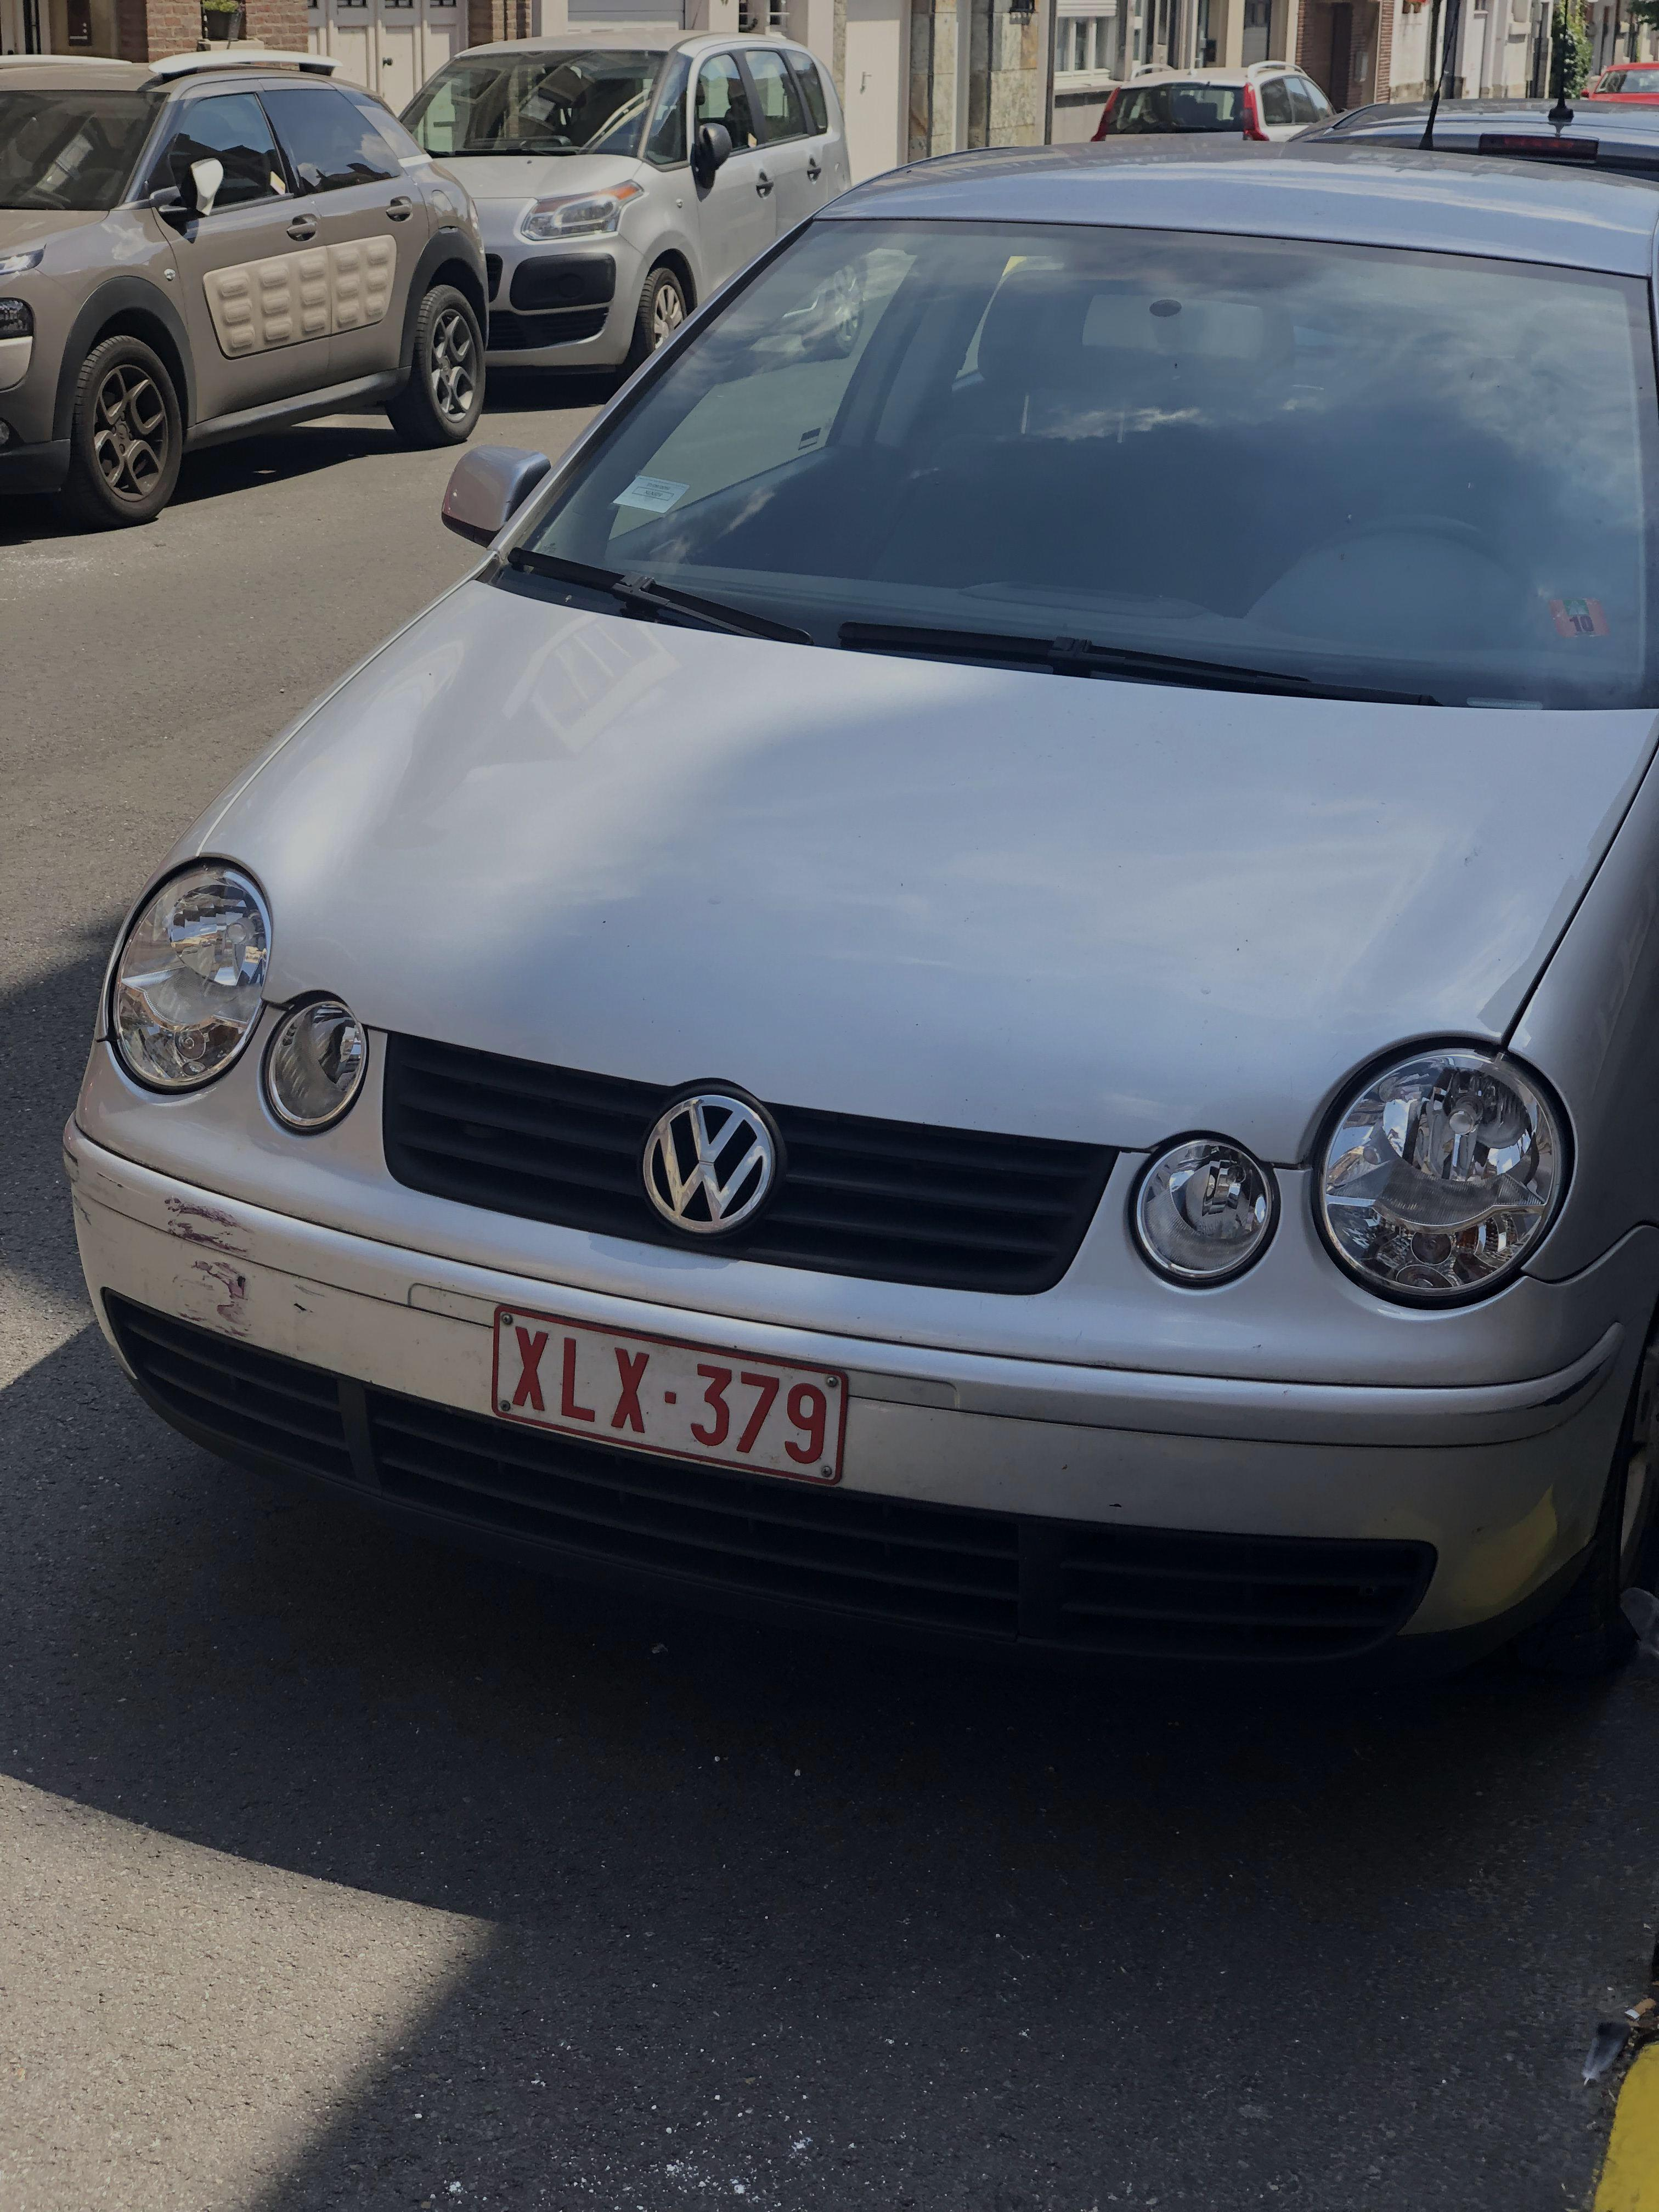plate: (482, 1288, 864, 1503)
